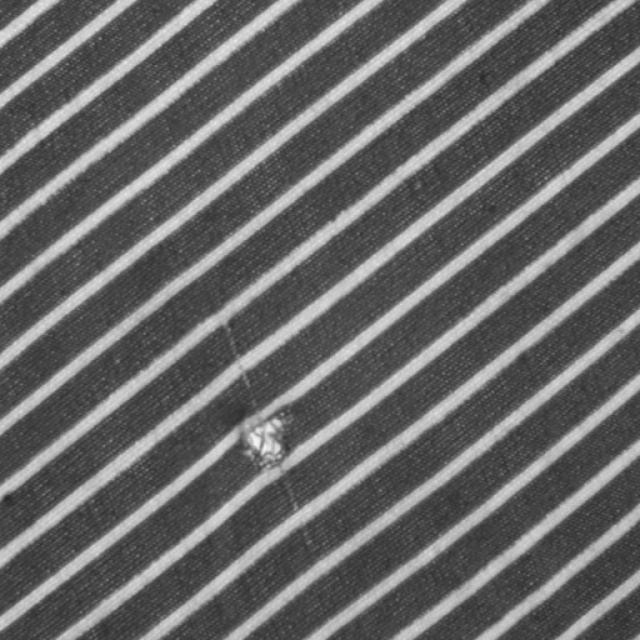Hole-Defect: (218, 317, 324, 557)
